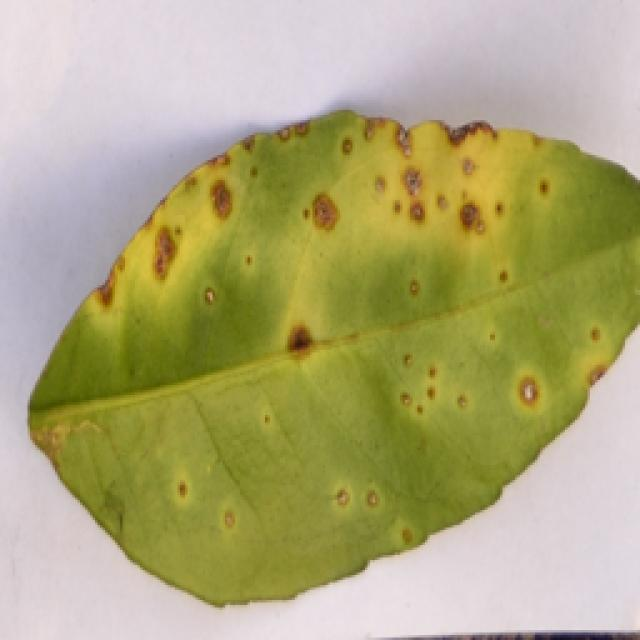canker: (59, 113, 618, 593)
